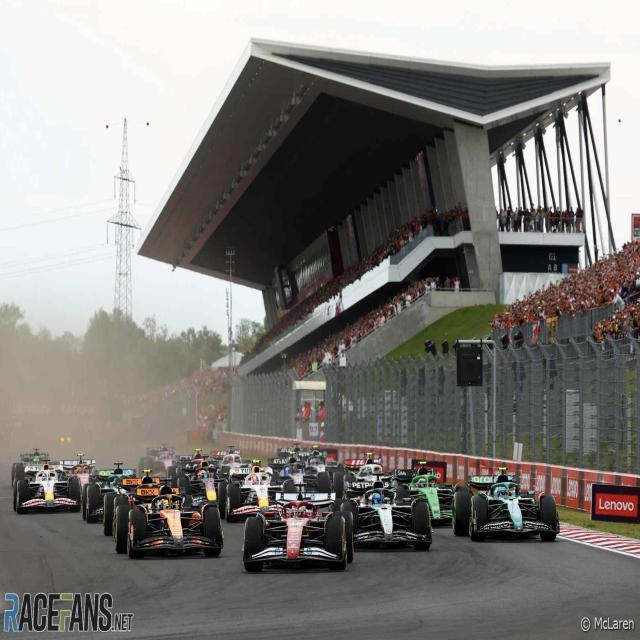Alpine: (139, 444, 179, 476), (169, 450, 210, 466)
Aston Martin: (451, 466, 561, 544), (83, 462, 136, 523)
Ferrari: (243, 482, 353, 572), (59, 453, 99, 497)
Haas: (334, 453, 396, 496), (210, 445, 261, 478)
Kick Sauber: (394, 462, 468, 523), (12, 446, 49, 482)
McLaren: (115, 478, 224, 558), (104, 470, 160, 537)
Mercedes: (332, 480, 433, 552), (296, 446, 338, 472)
Racing Bulls: (219, 459, 296, 521), (14, 460, 80, 515)
Red Bull: (174, 456, 228, 504)
Williams: (268, 452, 331, 493), (278, 446, 312, 470)
